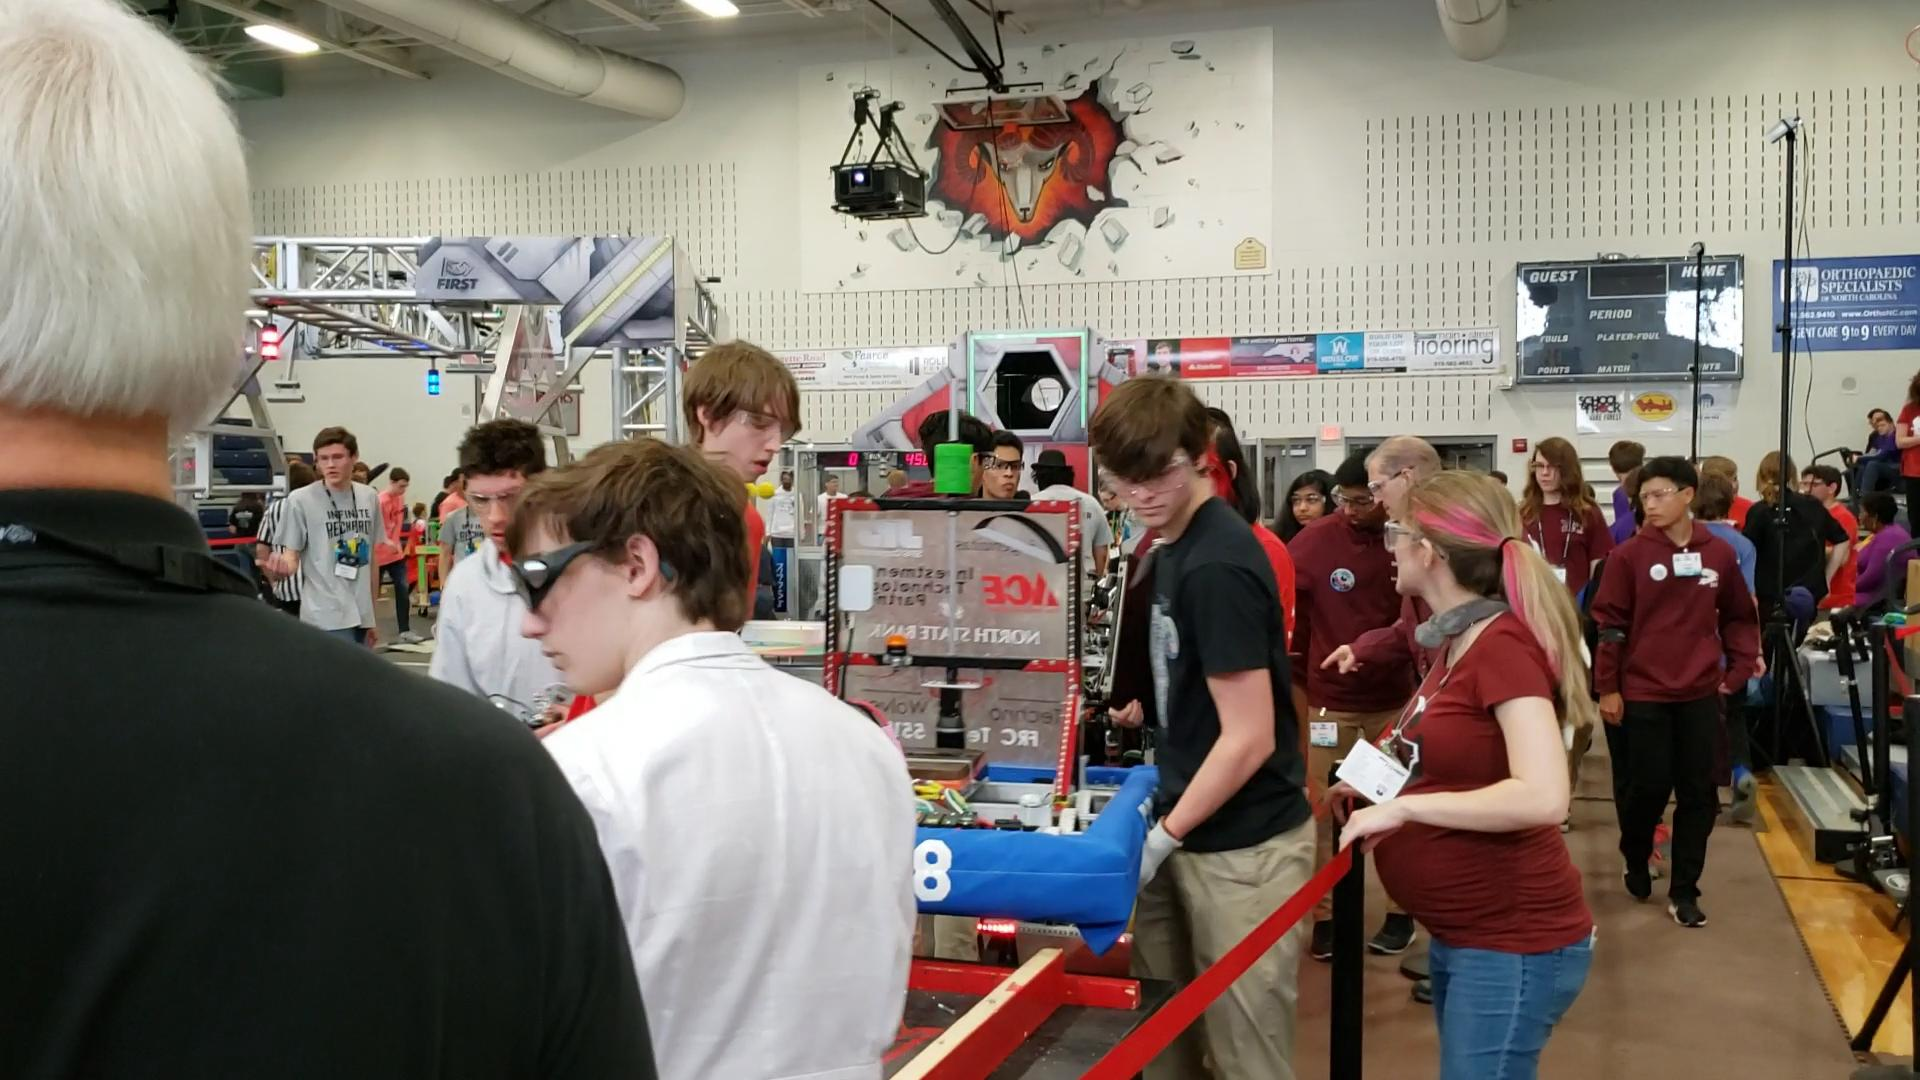robot: (767, 487, 1163, 926)
